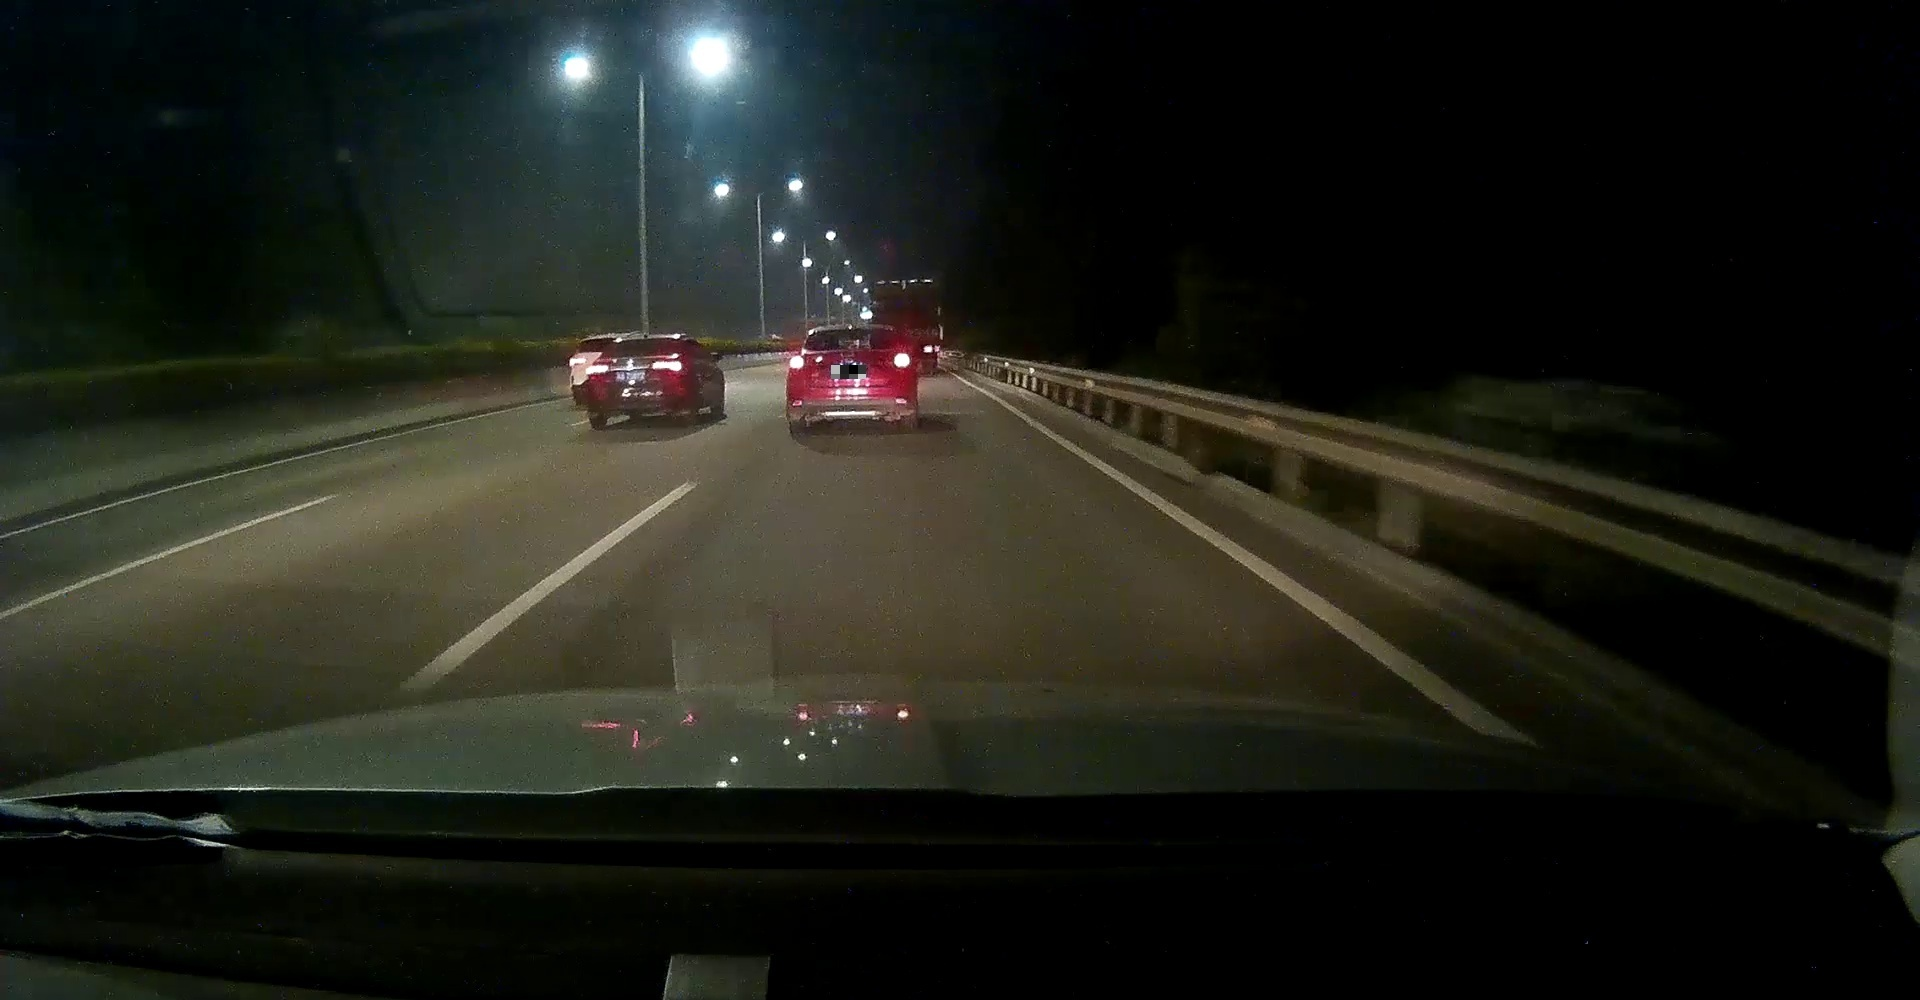L_light: (789, 354, 804, 369), (585, 365, 610, 374)
R_light: (651, 360, 683, 372), (893, 352, 912, 369)
T_light: (843, 329, 863, 335), (635, 339, 651, 341)
night-no: (783, 324, 916, 431), (585, 335, 686, 426)
plate_1: (830, 365, 866, 379)
